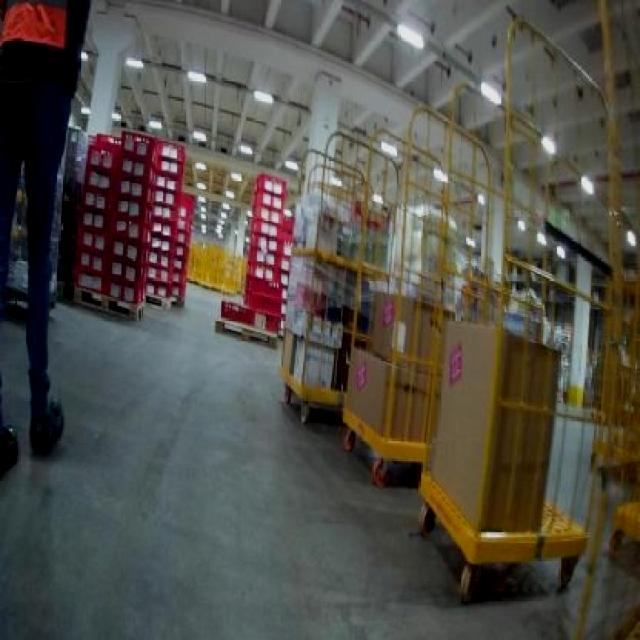pallets: (417, 318, 583, 598), (72, 131, 191, 315), (214, 172, 291, 342)
